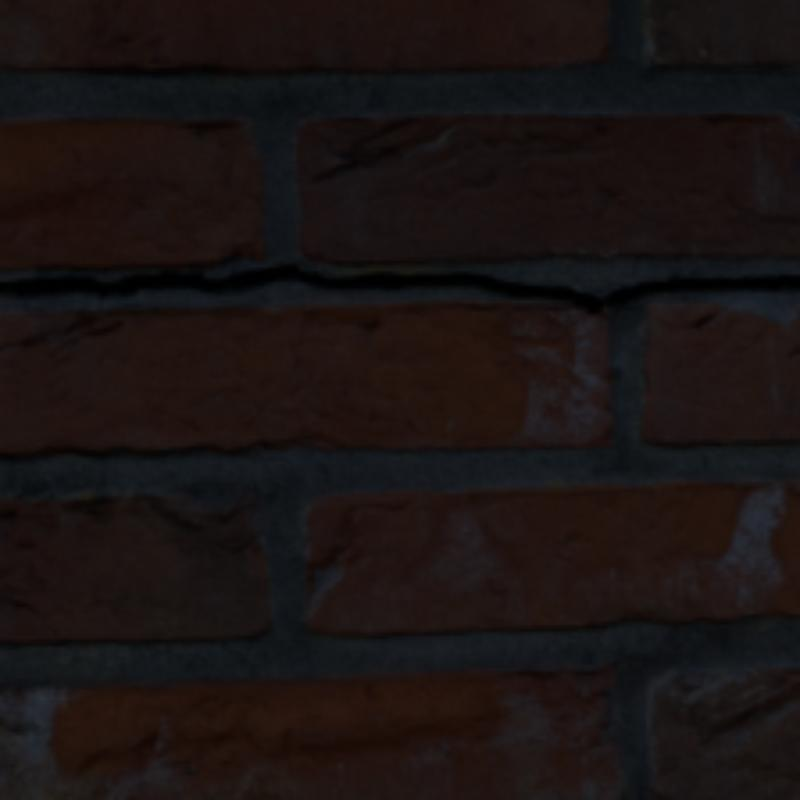pothole: (0, 264, 796, 314)
